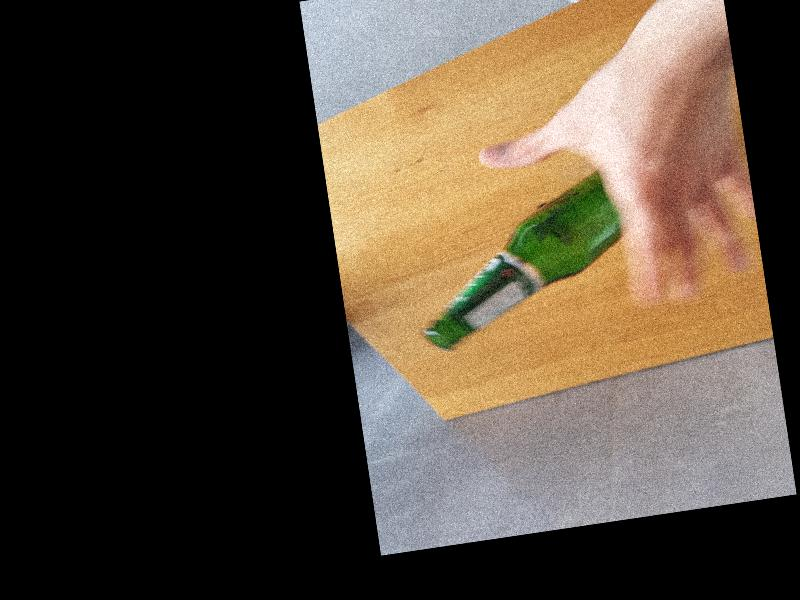Beer: (402, 167, 634, 353)
